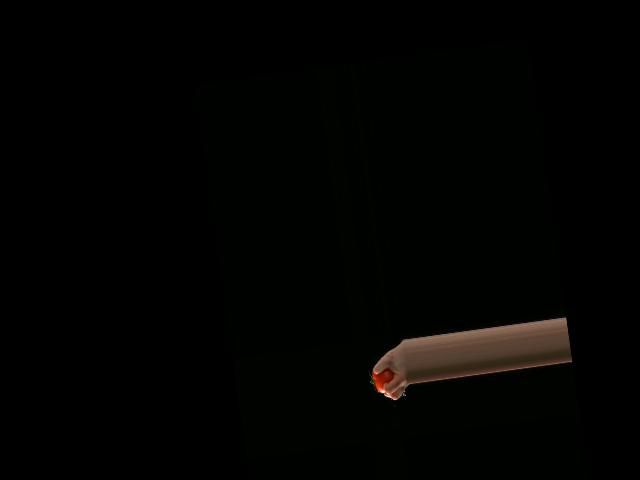tomato: (371, 367, 396, 393)
